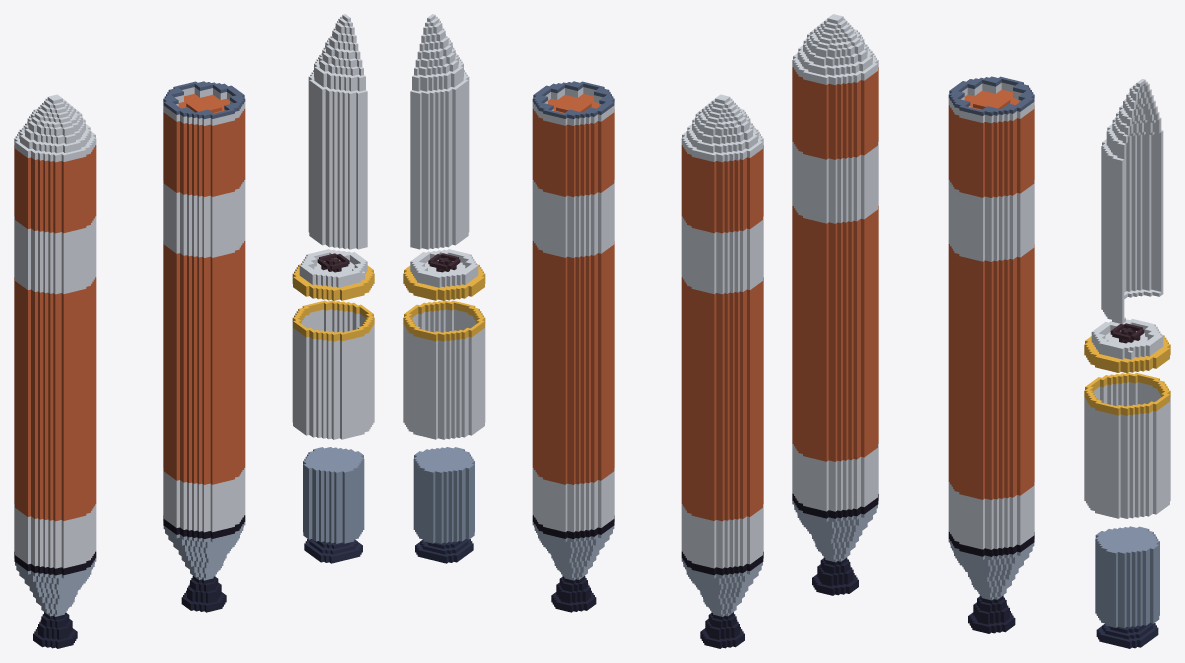
File: Lake_IV_Heavy_all_parts.glb
3 renders of one model, left to right at view 1: azimuth 30°, elevation 25°; view 2: azimuth 150°, elevation 25°; view 3: azimuth 330°, elevation 25°, orthographic. The views are drawn at different scales.
Parts seen in each view (by area): view 1: ObjObject.011; view 2: ObjObject.011; view 3: ObjObject.011.
Part boxes in pixels (x1,y1,x2,y2): ObjObject.011: (14,14,374,648); ObjObject.011: (403,14,763,648); ObjObject.011: (792,14,1170,648).
Size of the model in its own units: 10.7 by 16.3 by 2.1.
1 material, 1 textured.
